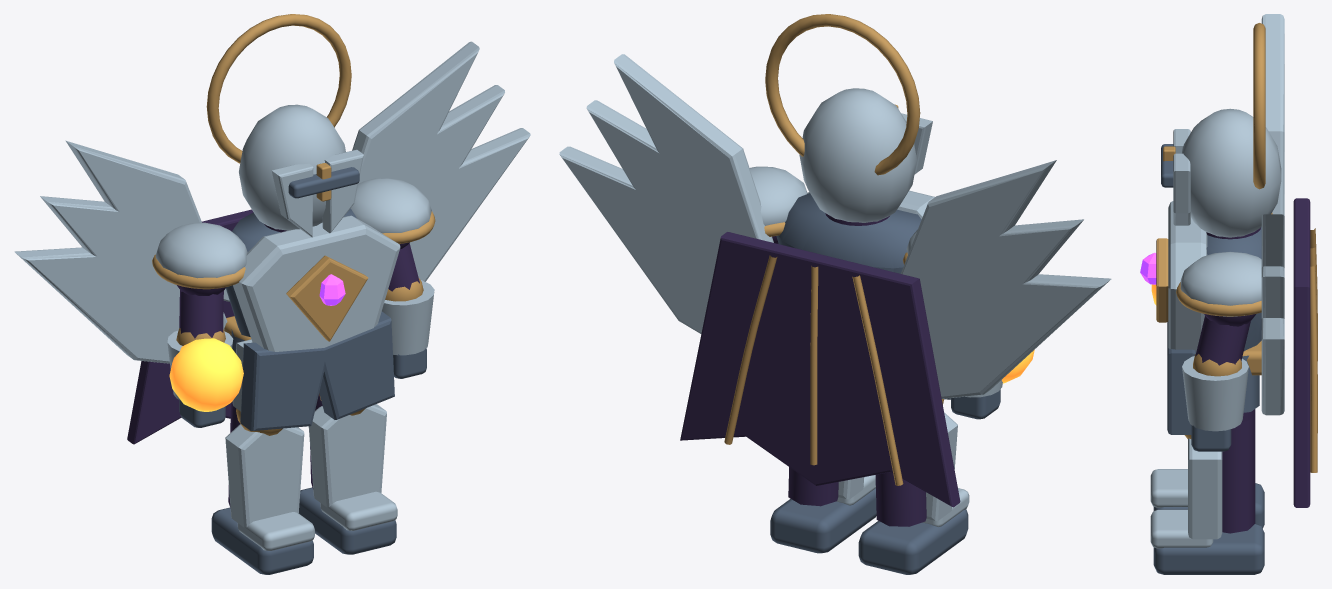
The model's file is moonsteel-convergence-seraph-mender-f75e97e7__18173.glb.
3 renders of one model, left to right at view 1: azimuth 30°, elevation 25°; view 2: azimuth 150°, elevation 25°; view 3: azimuth 270°, elevation 25°, orthographic. The views are drawn at different scales.
Parts seen in each view (by area): view 1: seraph-mender; view 2: seraph-mender; view 3: seraph-mender.
Boxes of the visible parts, x1,y1,x2,y2 form: seraph-mender: [14, 14, 530, 574]; seraph-mender: [559, 14, 1111, 574]; seraph-mender: [1140, 14, 1317, 574].
Bounding box in the file's own units: 2.83 × 2.71 × 0.8487.
